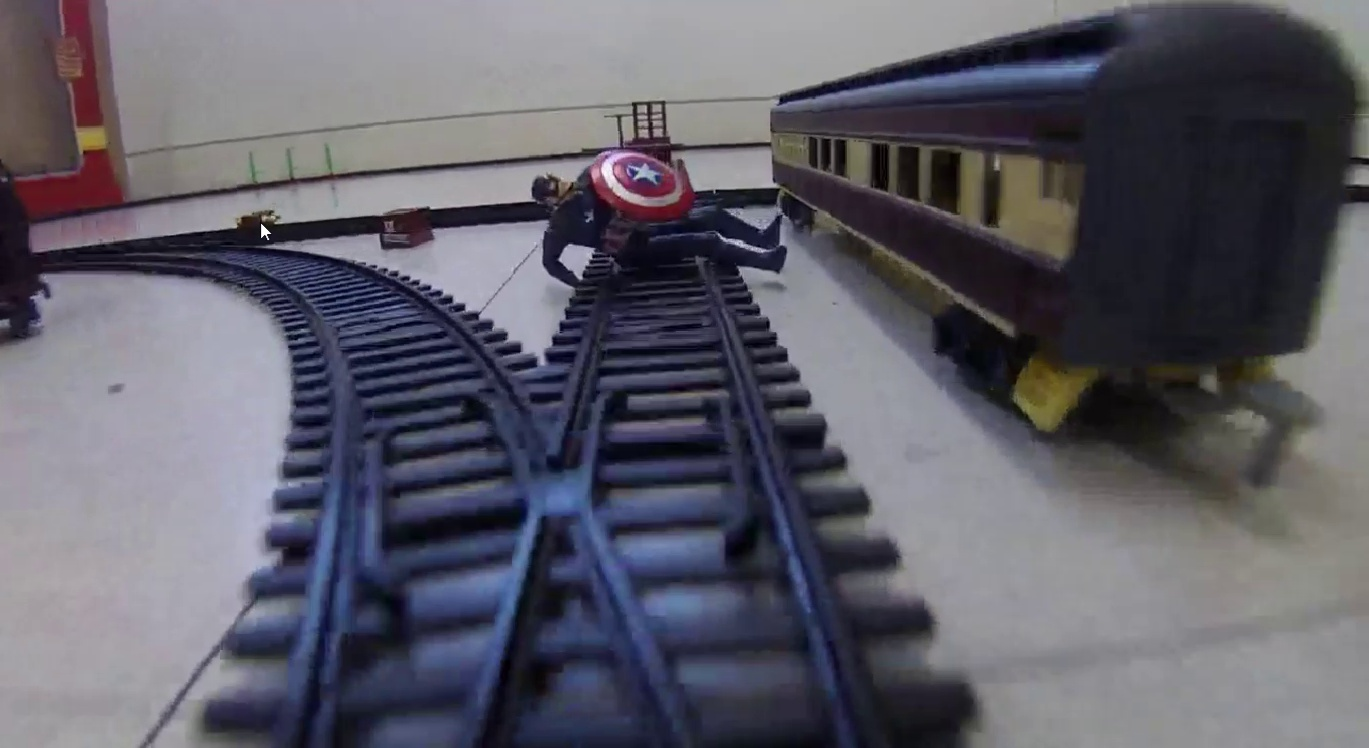box: (379, 208, 435, 247)
people: (531, 151, 787, 282)
